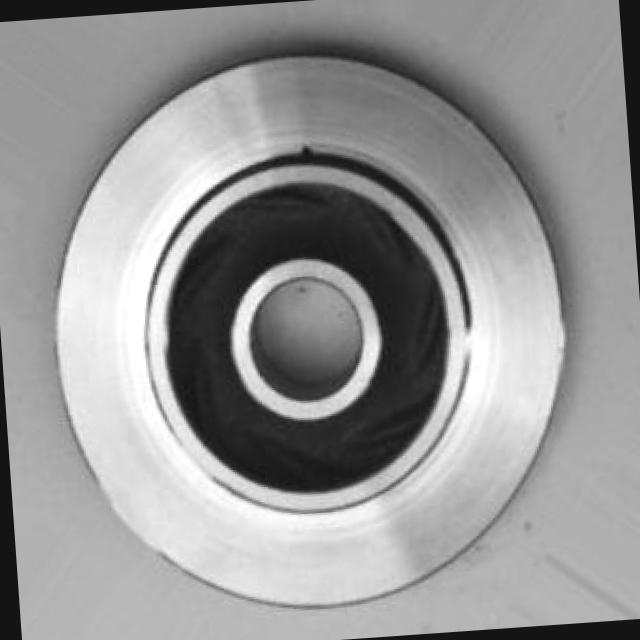Defect: (286, 131, 328, 166)
